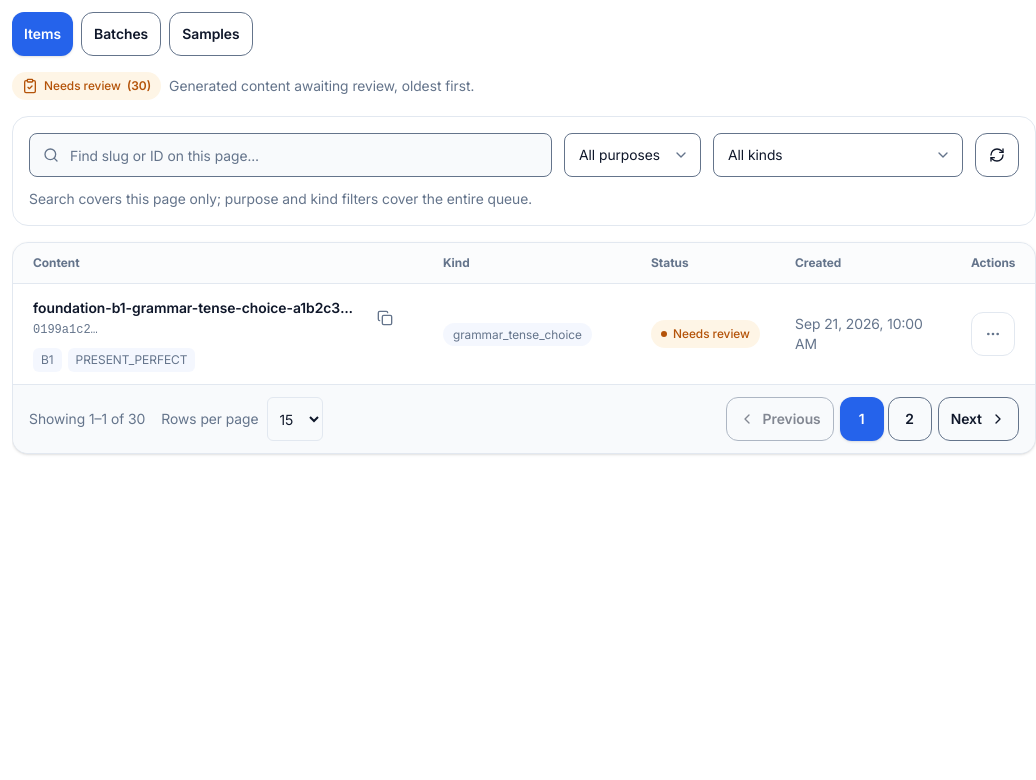
AdminReviewQueue › filters the current page by slug or ID without issuing a fake server search
Expected: the table is shown, [13, 243, 1035, 384]
Type "nonexistent" into the search field.
click(290, 155); type("nonexistent")  # box [29, 133, 552, 177]
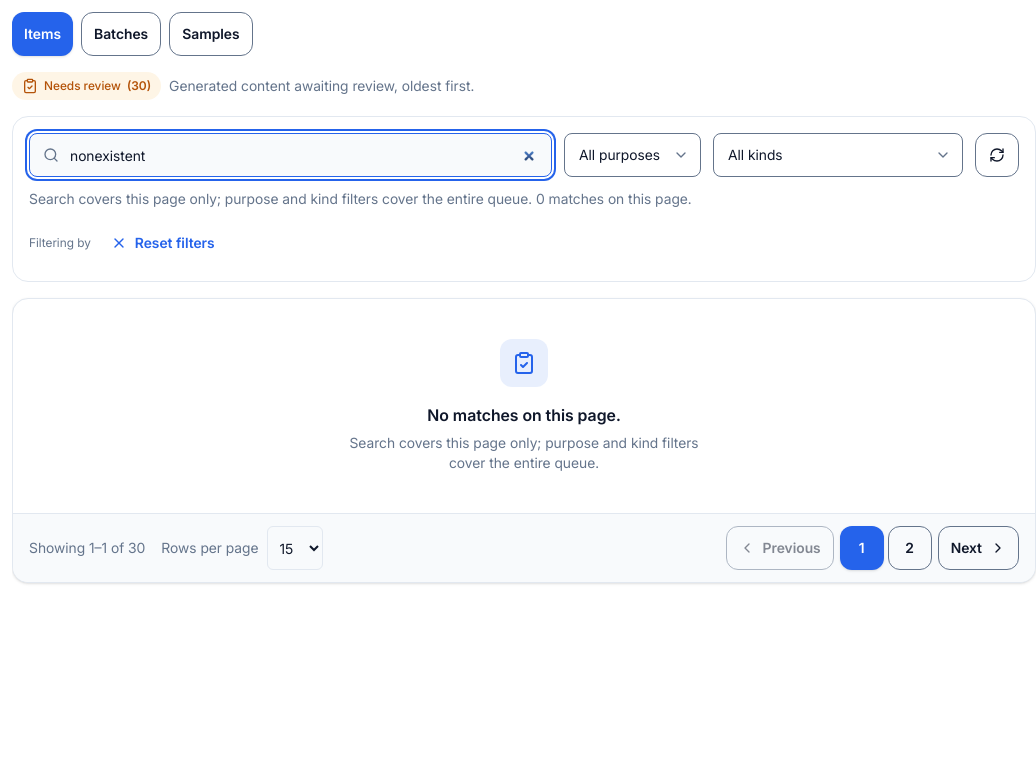
Expected: the text "Showing 1–1 of 30" is shown, [29, 538, 145, 558]
Expected: the heading "No matches on this page." is shown, [427, 403, 621, 427]
Click the button "Reset filters".
click(163, 243)  # box [99, 221, 227, 265]
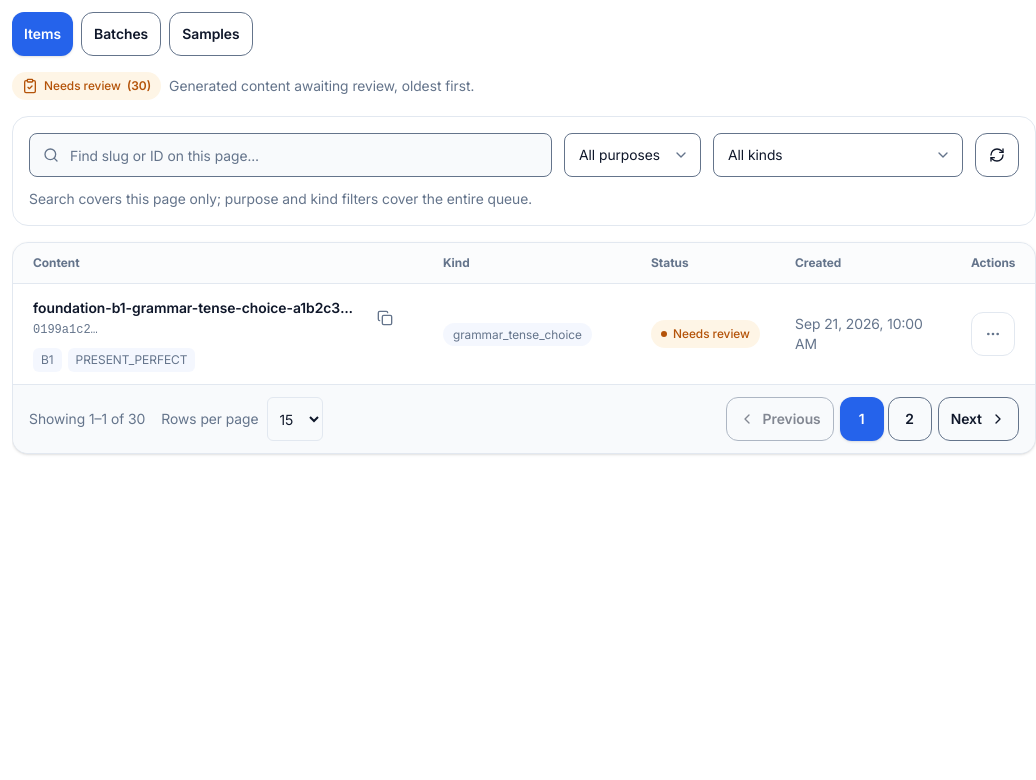
Expected: the table is shown, [13, 243, 1035, 384]
Type "0199a1c2-3d4e-7f80-9abc-def012345601" into the search field.
click(290, 155); type("0199a1c2-3d4e-7f80-9abc-def012345601")  # box [29, 133, 552, 177]
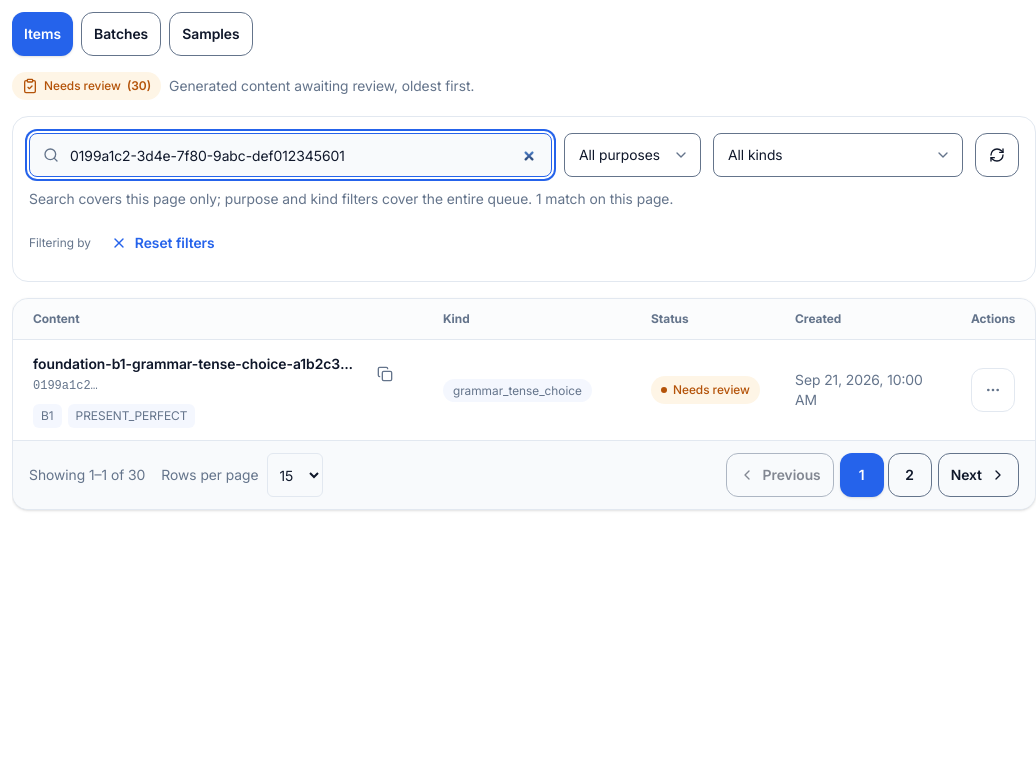
Expected: the text "1 match on this page." is shown, [536, 190, 673, 207]
